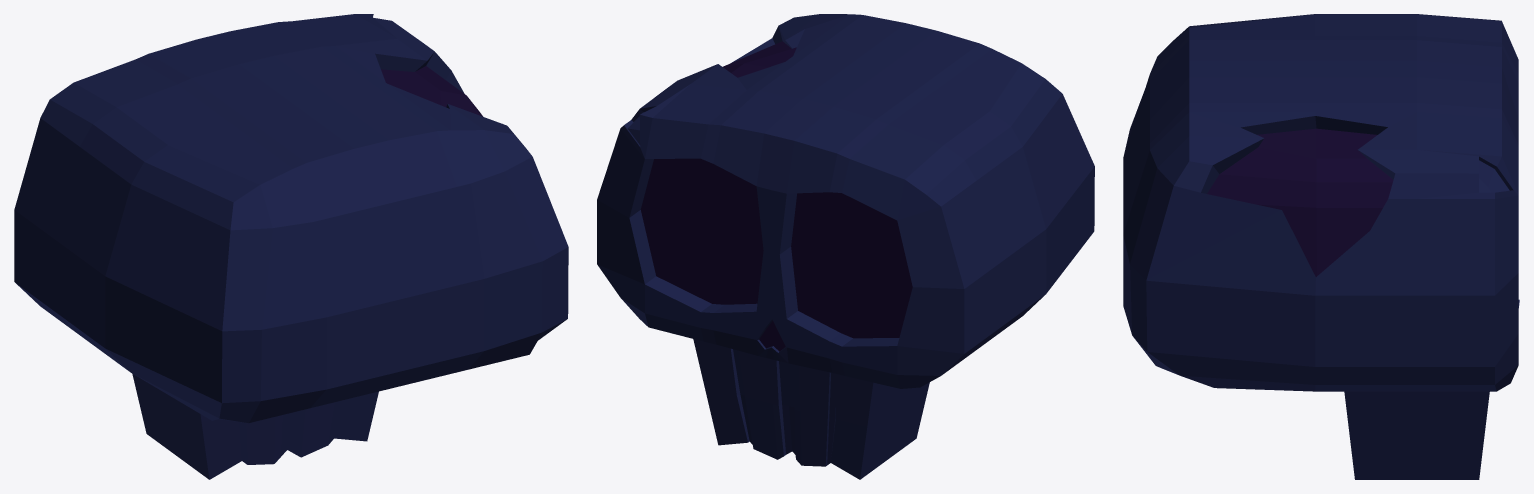
The model's file is rock_skull1.fbx.
3 views of the same model, side by side, from view 1: azimuth 30°, elevation 25°; view 2: azimuth 150°, elevation 25°; view 3: azimuth 270°, elevation 25° (orthographic). The views are drawn at different scales.
Parts seen in each view (by area): view 1: rock_skull1; view 2: rock_skull1; view 3: rock_skull1.
Part boxes in pixels (x1,y1,x2,y2): rock_skull1: [14, 14, 568, 479]; rock_skull1: [597, 14, 1094, 479]; rock_skull1: [1123, 14, 1519, 479].
Bounding box in the file's own units: 1.61 × 1.37 × 1.42.
